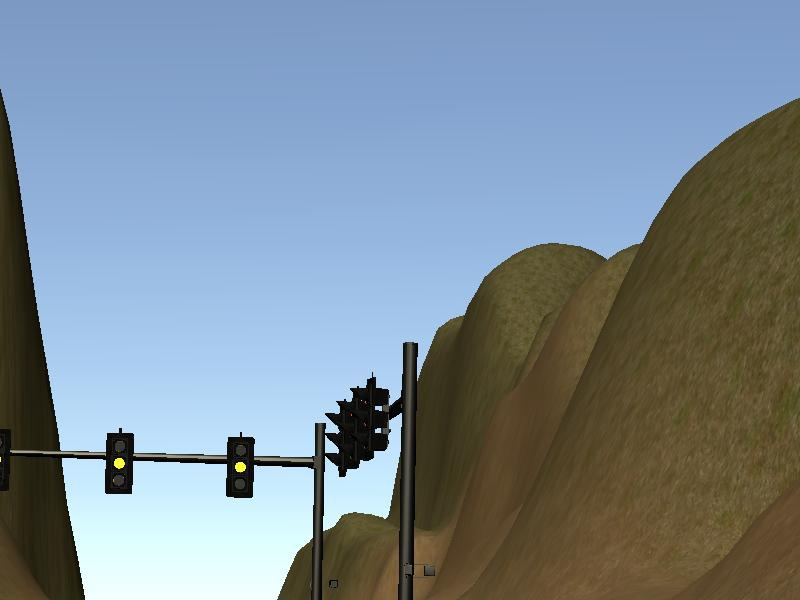yellow_light: (228, 437, 256, 499), (106, 433, 132, 494)
